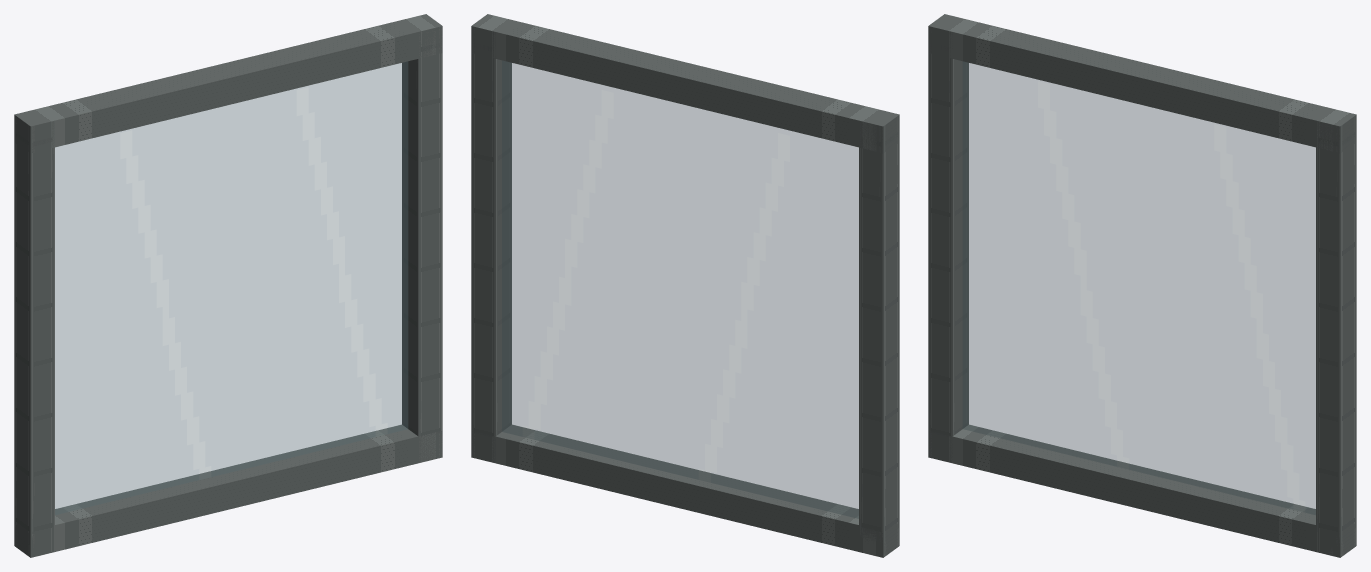
Rendered from ventana_clasica.glb.
The picture shows the model from 3 angles, left to right: view 1: azimuth 30°, elevation 25°; view 2: azimuth 150°, elevation 25°; view 3: azimuth 330°, elevation 25°; orthographic projection.
Parts seen in each view (by area): view 1: VIDRIO, MARCO_FIJO; view 2: VIDRIO, MARCO_FIJO; view 3: VIDRIO, MARCO_FIJO.
Part boxes in pixels (x1,y1,x2,y2): VIDRIO: [55, 61, 407, 514]; MARCO_FIJO: [14, 14, 442, 557]; VIDRIO: [502, 60, 858, 518]; MARCO_FIJO: [471, 14, 899, 557]; VIDRIO: [963, 61, 1315, 514]; MARCO_FIJO: [928, 14, 1356, 557].
Size of the model in its own units: 1.52 by 1.53 by 0.105.
2 materials, 2 textured.
